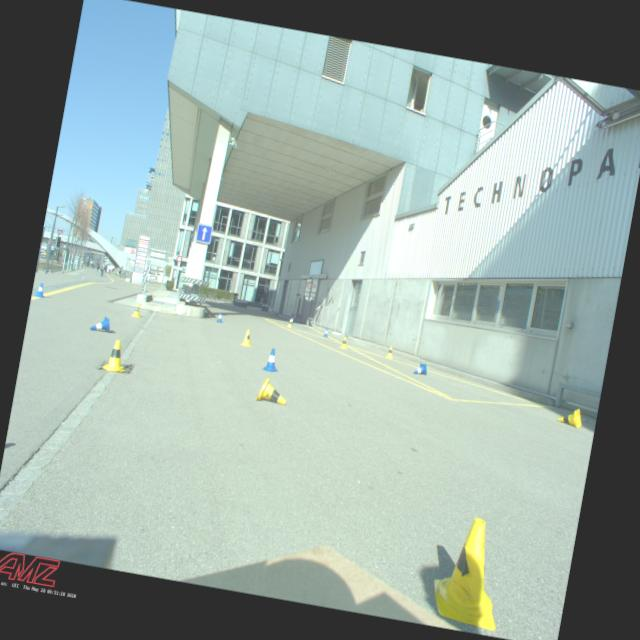blue_cone: (260, 346, 282, 373), (89, 314, 112, 333), (32, 282, 47, 298), (413, 362, 428, 376), (215, 311, 224, 323), (322, 327, 329, 337), (290, 316, 294, 324)
yellow_cone: (426, 512, 514, 631), (254, 374, 290, 406), (100, 338, 130, 373), (556, 406, 584, 428), (240, 328, 254, 347), (130, 302, 143, 318), (384, 345, 394, 359), (338, 336, 348, 349), (286, 318, 292, 328)
